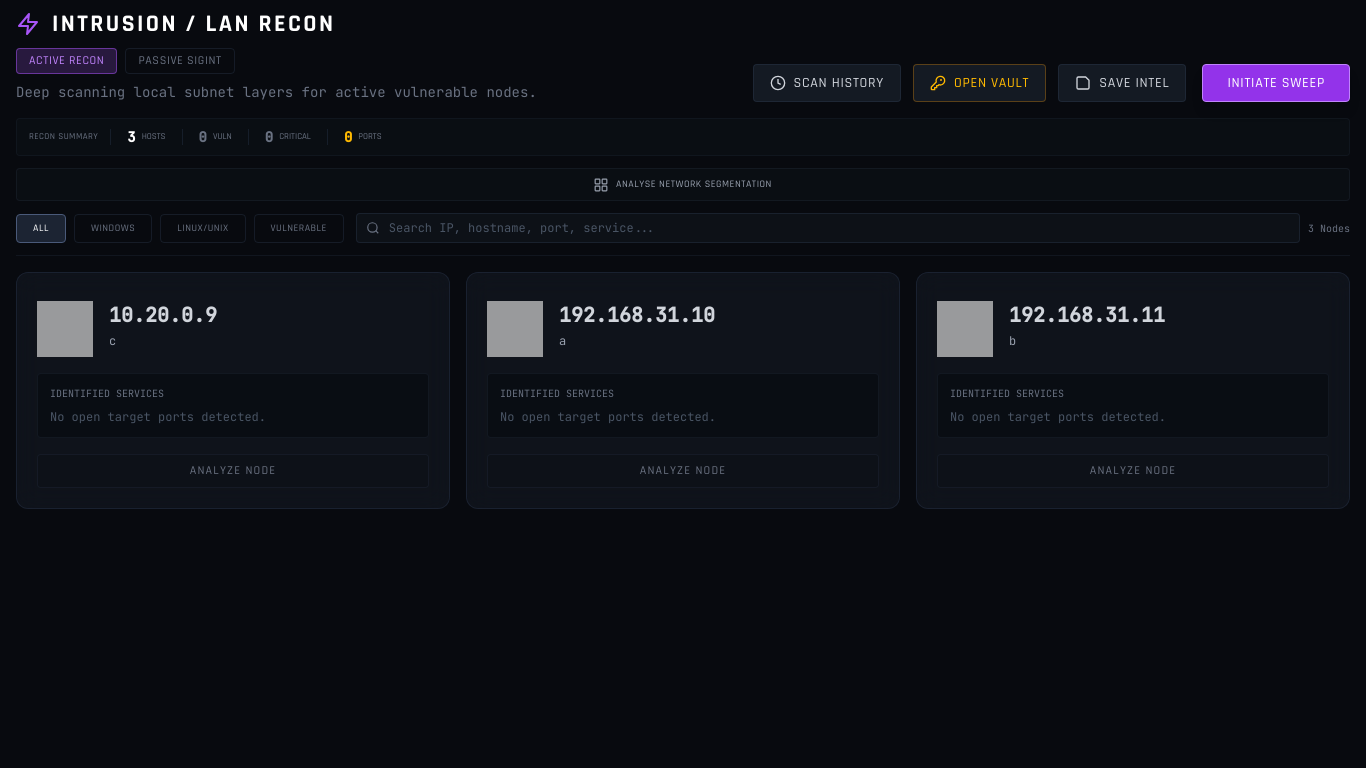
Test: the host count per range › a swept range reports what was found and how much was probed
The image size is (1366, 768).
Click the button "ANALYSE NETWORK SEGMENTATION".
click(683, 184)  # box [16,168,1350,201]
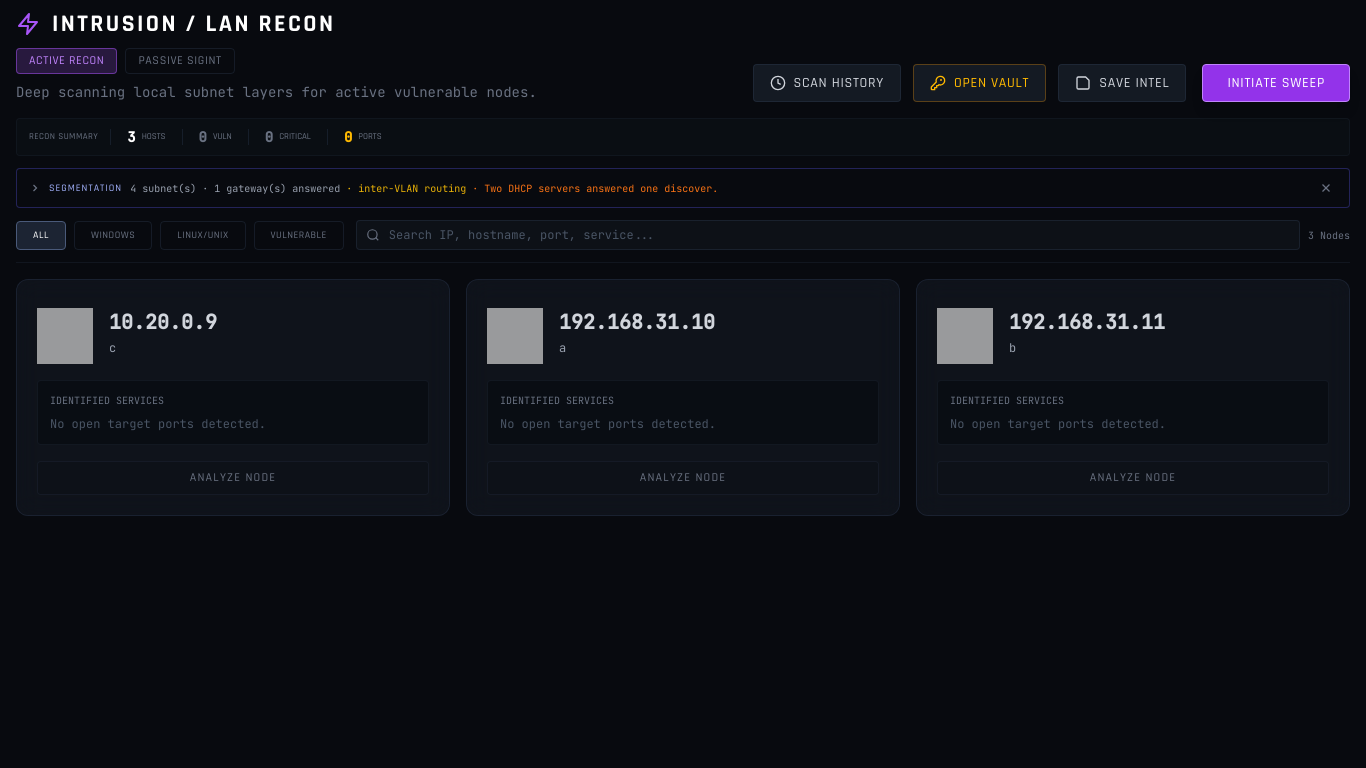
Click the button "SEGMENTATION".
click(668, 188)  # box [29,180,1307,196]
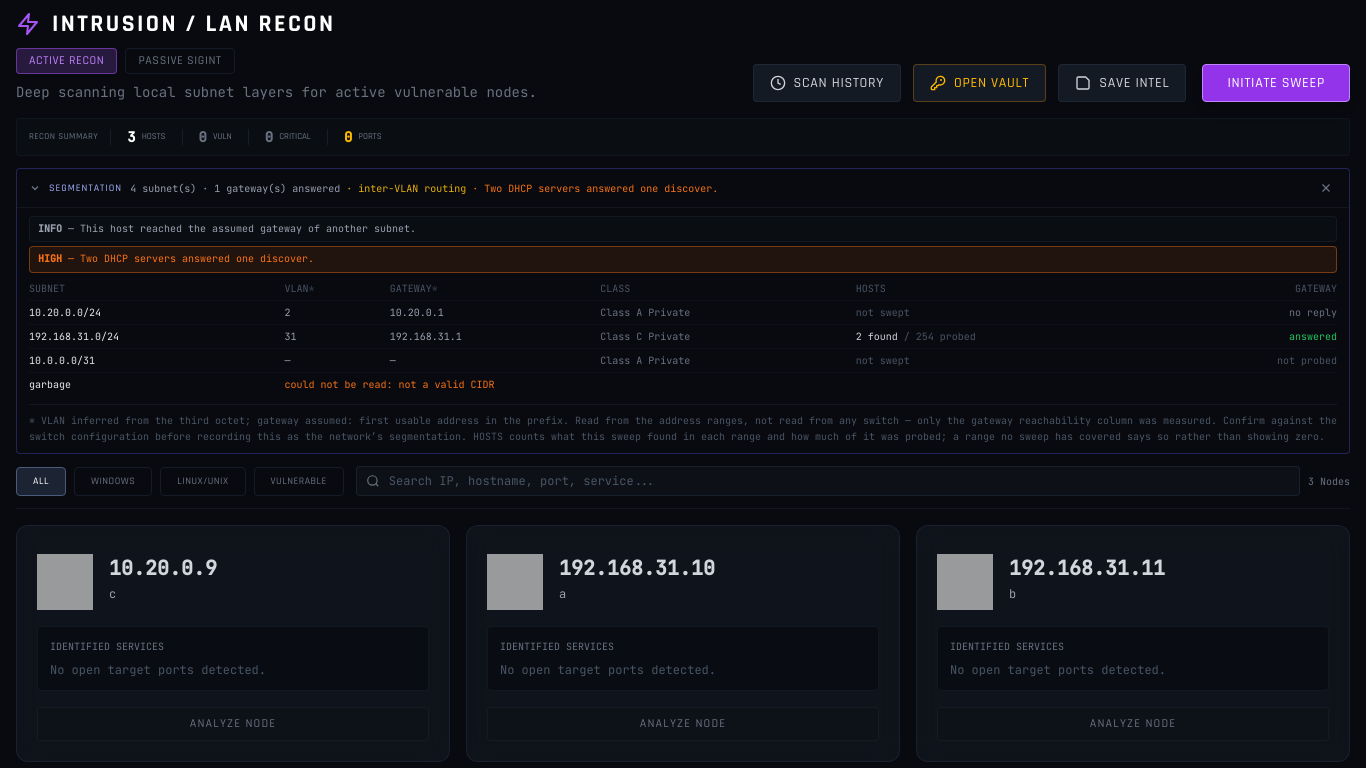
Check: the text "192.168.31.0/24" shows "2 found", box [29,324,1337,348]
Check: the text "192.168.31.0/24" shows "254 probed", box [29,324,1337,348]
